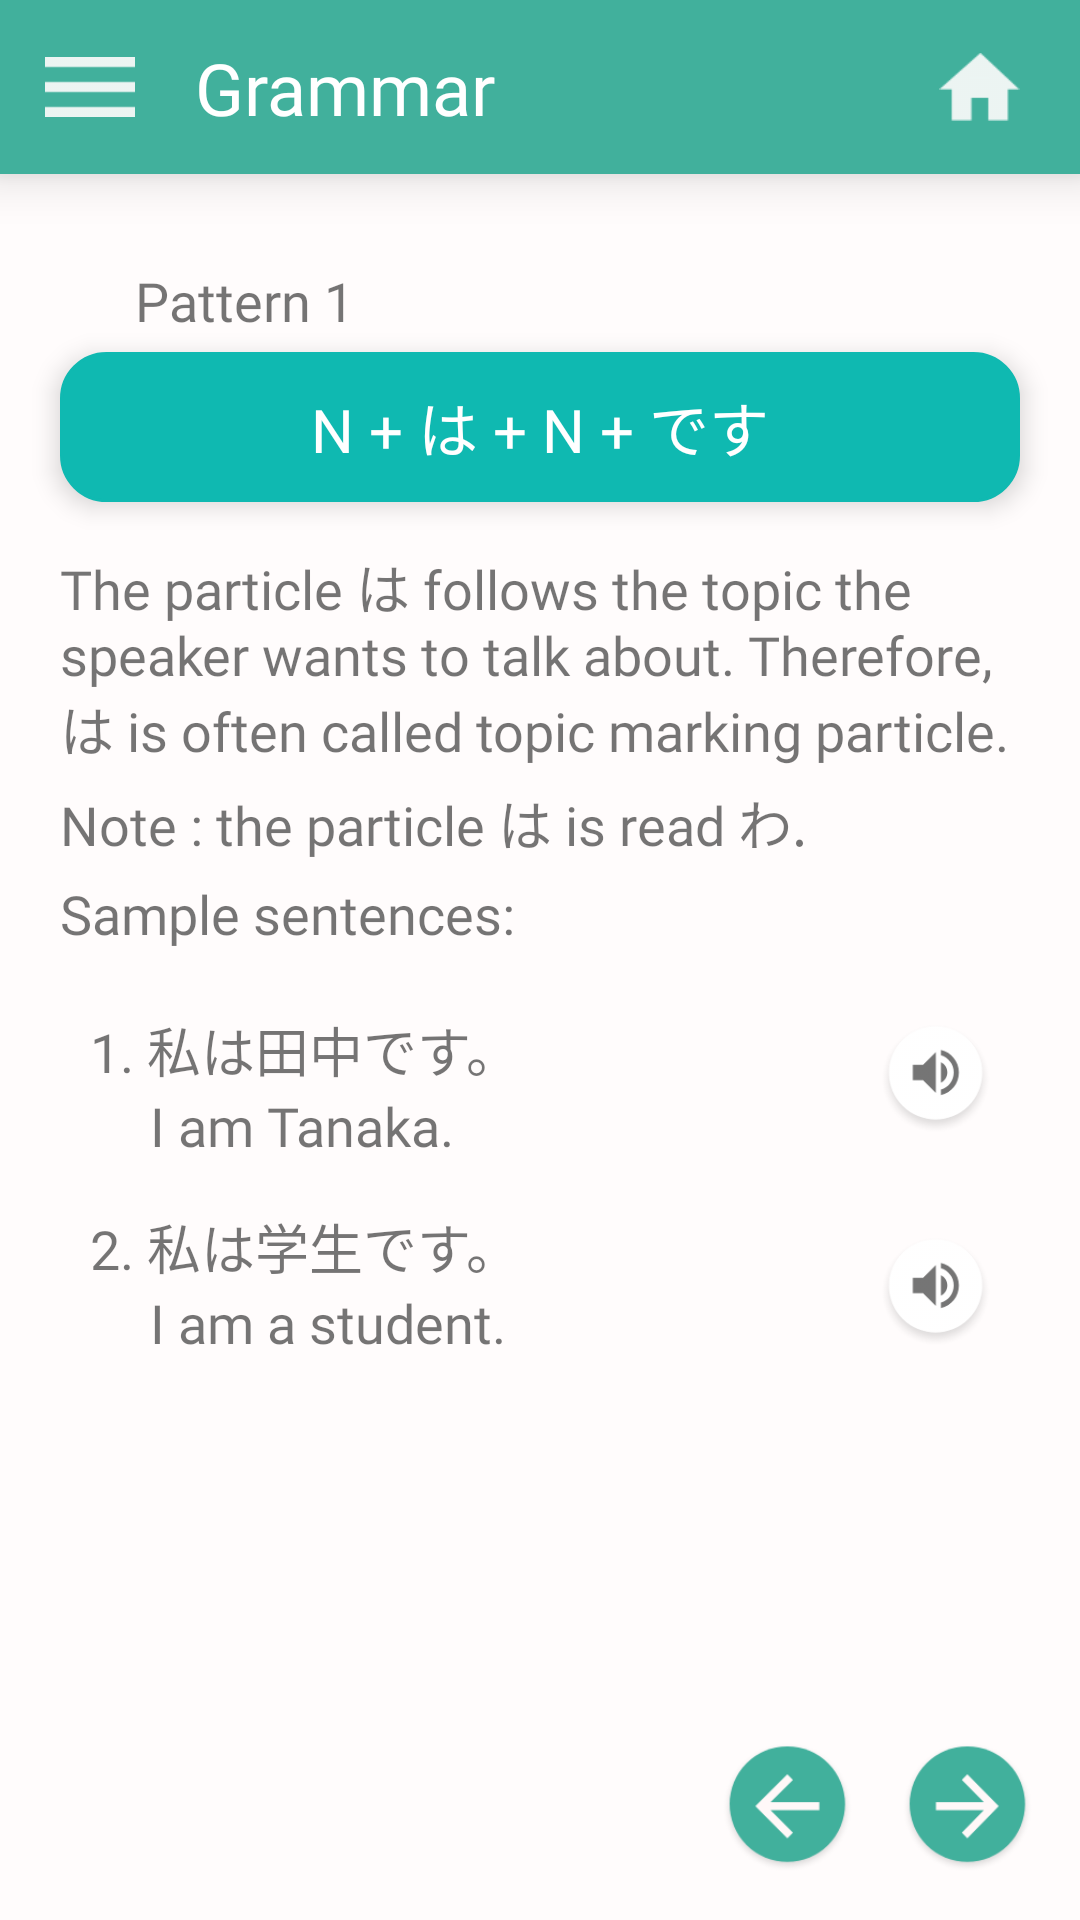

Screen size 1080*1920. Icon name, then its center in pixels as (x=x, y=y):
audio grammar: (x=937, y=1086), (x=936, y=1299)
back: (x=787, y=1805)
forward: (x=967, y=1805)
home: (x=979, y=87)
